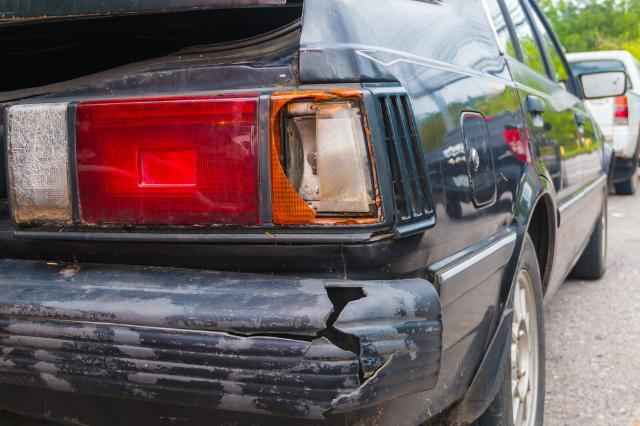crack: (223, 285, 399, 416)
lamp broken: (270, 88, 384, 224)
